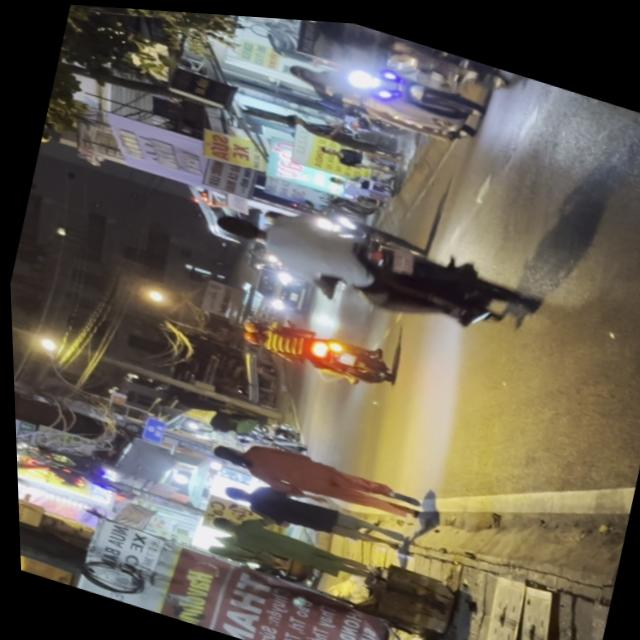licenseplate: (198, 170, 535, 346), (275, 30, 490, 147)
motorcyclist: (209, 202, 265, 241), (283, 54, 320, 80)
nohelmet: (388, 240, 417, 271)
